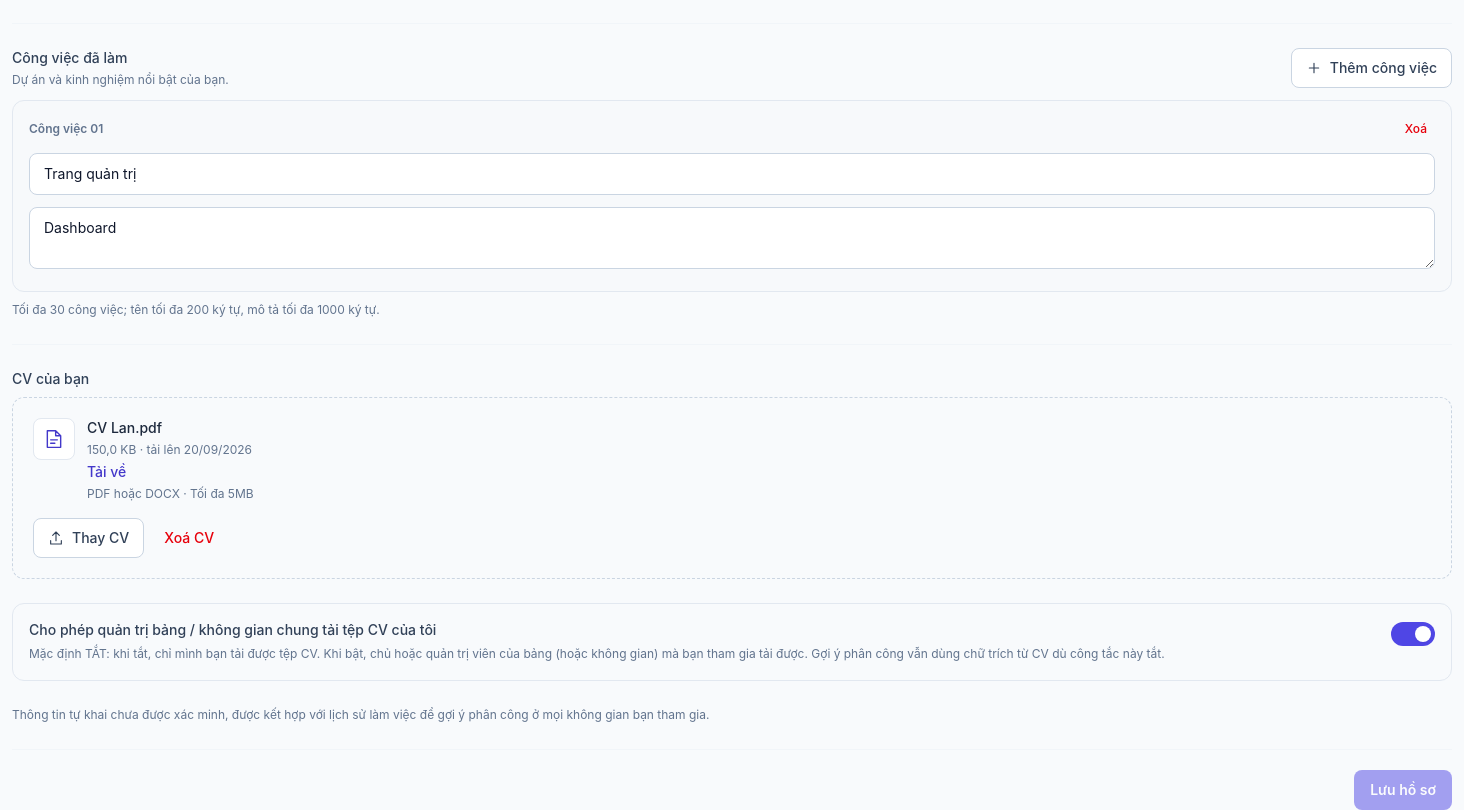
Scenario: DeclaredProfileSection - công tắc chia sẻ CV (mặc định tắt) › hồ sơ đã chia sẻ hiện công tắc BẬT; tắt lại thì có thay đổi chưa lưu
(page scrolled)
Expected: the button "Lưu hồ sơ" is disabled, [1354, 770, 1452, 809]
Click the checkbox labelled "Cho phép quản trị bảng": (233, 630) [12, 603, 1452, 681]
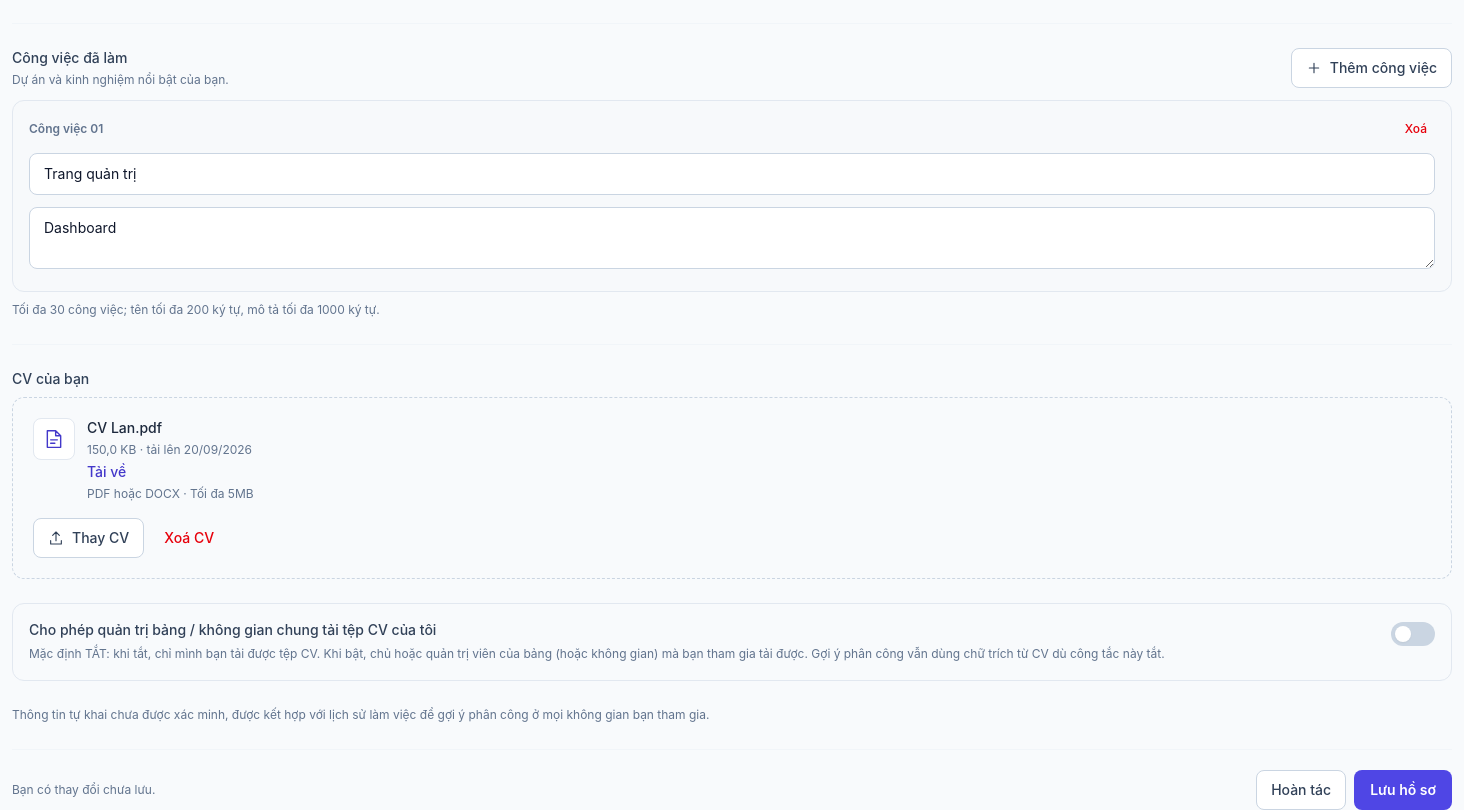
Result: the button "Lưu hồ sơ" is enabled at [1354, 770, 1452, 809]
